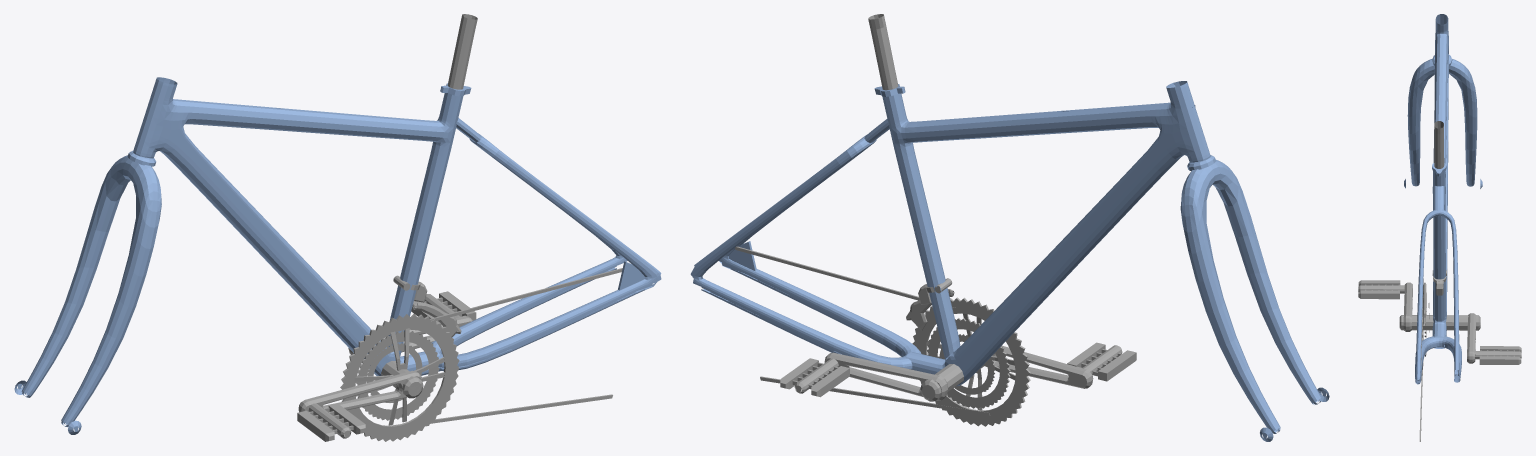
File: frame.dae
3 views of the same model, side by side, from view 1: azimuth 30°, elevation 25°; view 2: azimuth 150°, elevation 25°; view 3: azimuth 270°, elevation 25° (orthographic). The views are drawn at different scales.
Visible parts, largest first — view 1: Group_025, Group_008, Group_030; view 2: Group_025, Group_008, Group_030; view 3: Group_025, Group_008, Group_030.
Part boxes in pixels (left/top/right/bottom): Group_025: left=14, top=77, right=661, bottom=434; Group_008: left=297, top=268, right=622, bottom=441; Group_030: left=447, top=14, right=477, bottom=89; Group_025: left=690, top=81, right=1329, bottom=441; Group_008: left=735, top=246, right=1136, bottom=426; Group_030: left=868, top=14, right=898, bottom=90; Group_025: left=1404, top=14, right=1482, bottom=384; Group_008: left=1358, top=270, right=1521, bottom=441; Group_030: left=1434, top=121, right=1444, bottom=168.
Bounding box in the file's own units: 1.77 × 0.6103 × 1.16.
